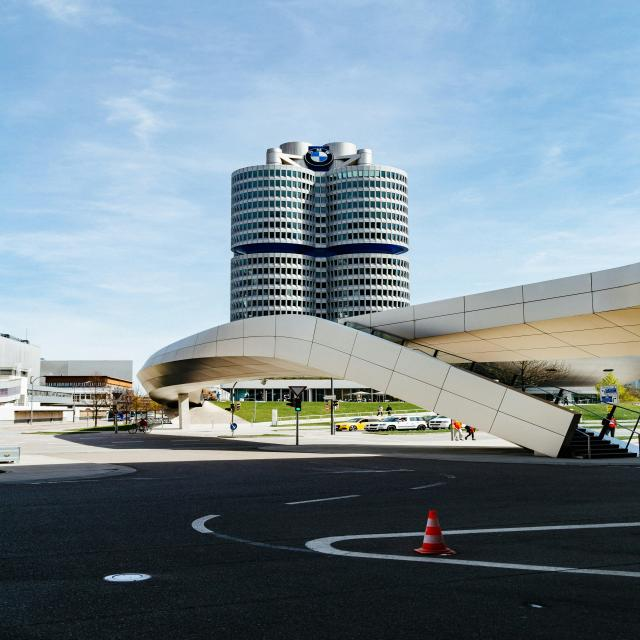Traffic Cone: (399, 500, 471, 577)
